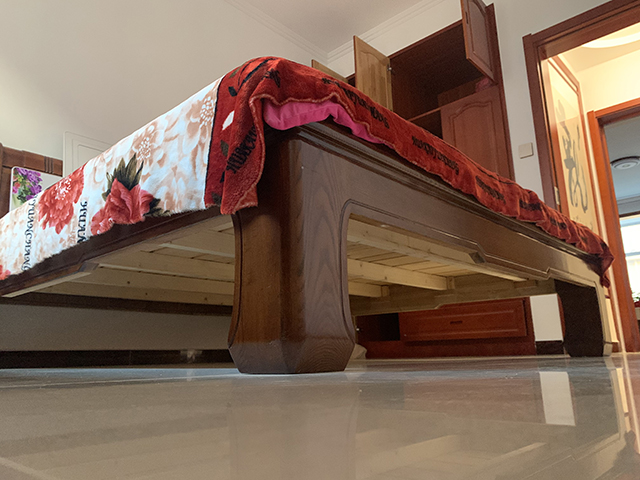bed: (1, 56, 615, 375)
cabinet: (355, 298, 537, 359)
